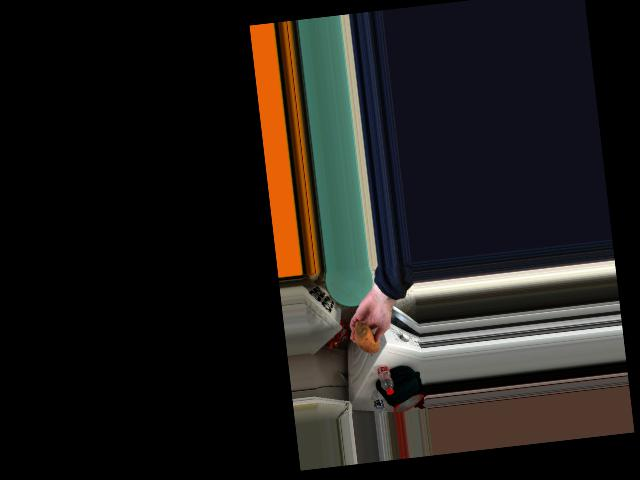sweet_potato: (353, 324, 378, 355)
